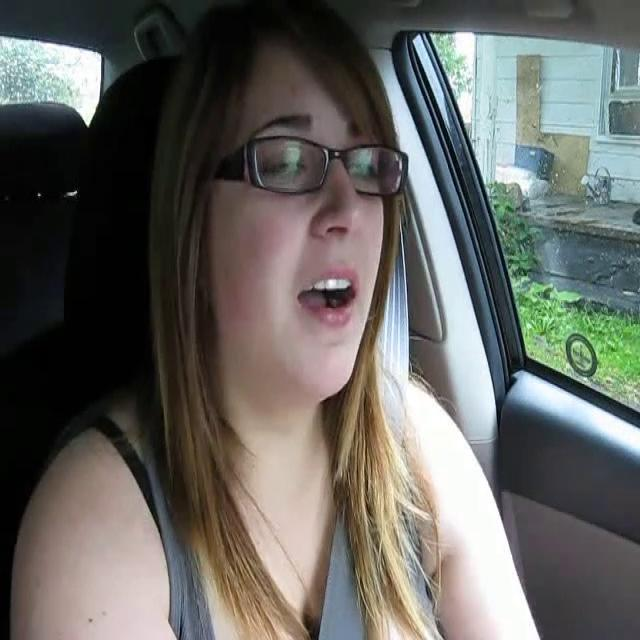open: (293, 263, 366, 328)
